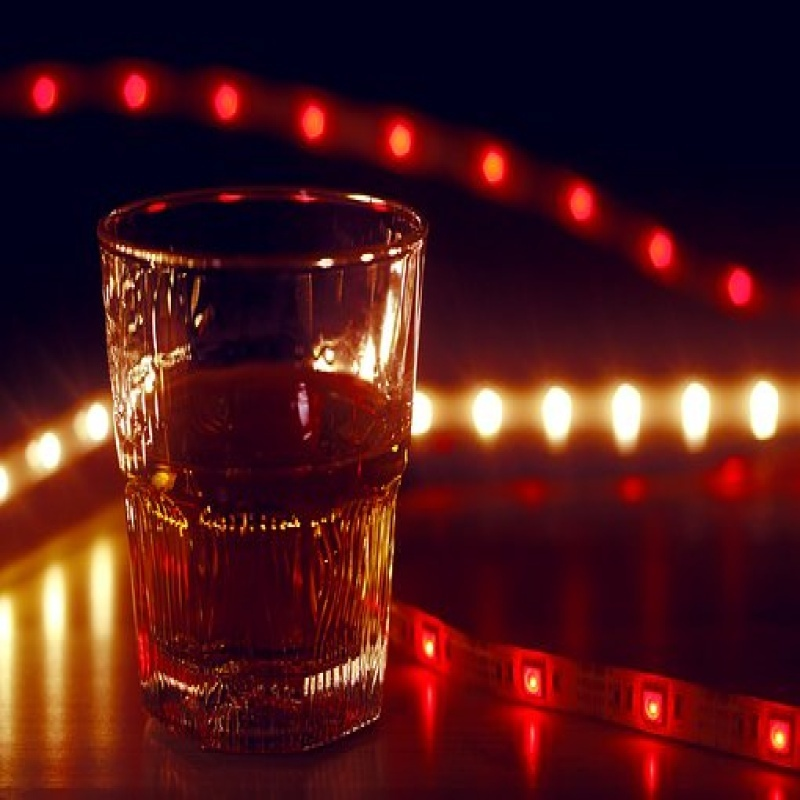whiskey: (103, 183, 432, 753)
